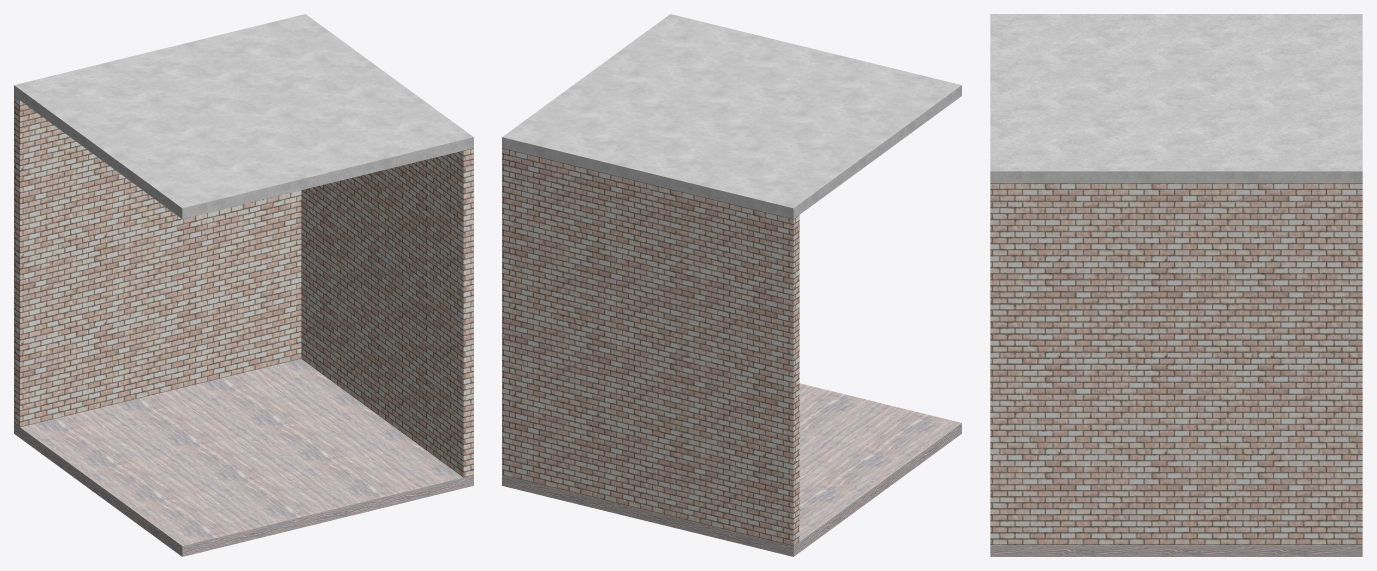
Rendered from OLD_Corner.obj.
The picture shows the model from 3 angles, left to right: view 1: azimuth 30°, elevation 25°; view 2: azimuth 150°, elevation 25°; view 3: azimuth 270°, elevation 25°; orthographic projection. The views are drawn at different scales.
Visible parts, largest first — view 1: Wall1, Ceiling1, Floor1, Wall2; view 2: Wall1, Ceiling1, Floor1, Wall2; view 3: Wall2, Ceiling1, Floor1.
Part boxes in pixels (left/top/right/bottom): Wall1: left=14, top=96, right=301, bottom=427; Ceiling1: left=14, top=14, right=473, bottom=218; Floor1: left=14, top=359, right=473, bottom=556; Wall2: left=301, top=148, right=473, bottom=477; Wall1: left=512, top=150, right=799, bottom=545; Ceiling1: left=502, top=14, right=961, bottom=218; Floor1: left=502, top=383, right=961, bottom=556; Wall2: left=502, top=148, right=512, bottom=477; Wall2: left=990, top=183, right=1362, bottom=544; Ceiling1: left=990, top=14, right=1362, bottom=183; Floor1: left=990, top=545, right=1362, bottom=556.
Bounding box in the file's own units: 28 × 32 × 28.
